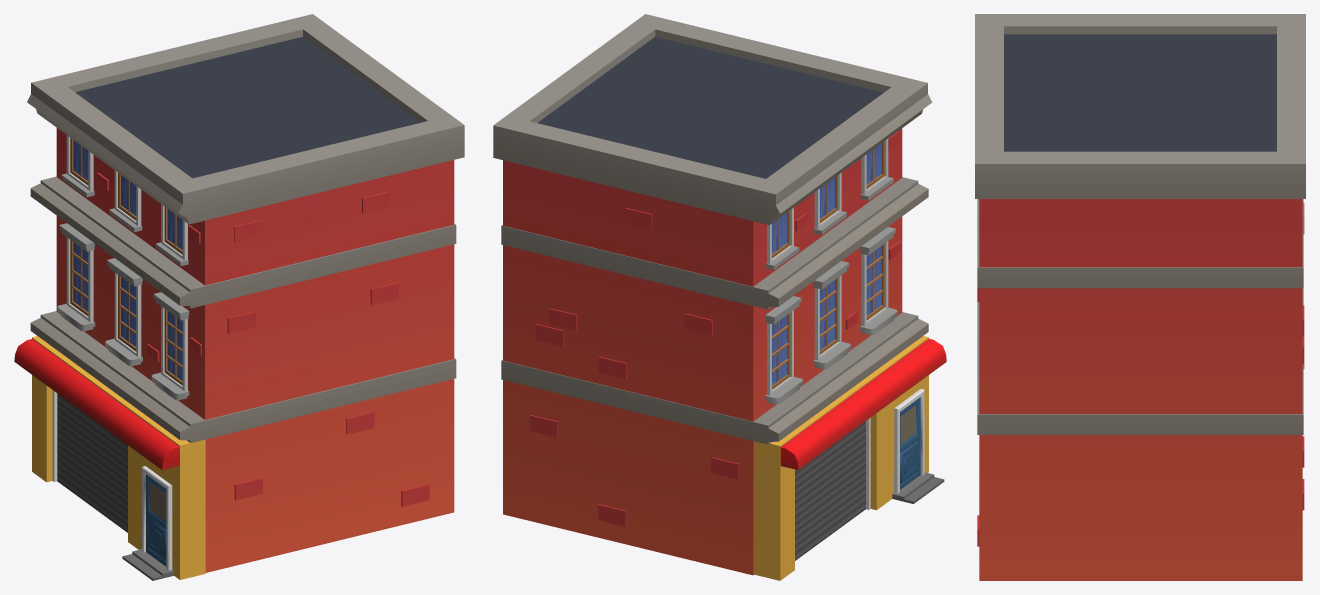
The model's file is Building_19_2_B.fbx.
3 renders of one model, left to right at view 1: azimuth 30°, elevation 25°; view 2: azimuth 150°, elevation 25°; view 3: azimuth 270°, elevation 25°, orthographic. The views are drawn at different scales.
Parts seen in each view (by area): view 1: Building_19_2_B; view 2: Building_19_2_B; view 3: Building_19_2_B.
Part boxes in pixels (left/top/right/bottom): Building_19_2_B: left=14, top=14, right=464, bottom=580; Building_19_2_B: left=493, top=14, right=946, bottom=580; Building_19_2_B: left=975, top=14, right=1305, bottom=580.
Bounding box in the file's own units: 774 × 938 × 667.
